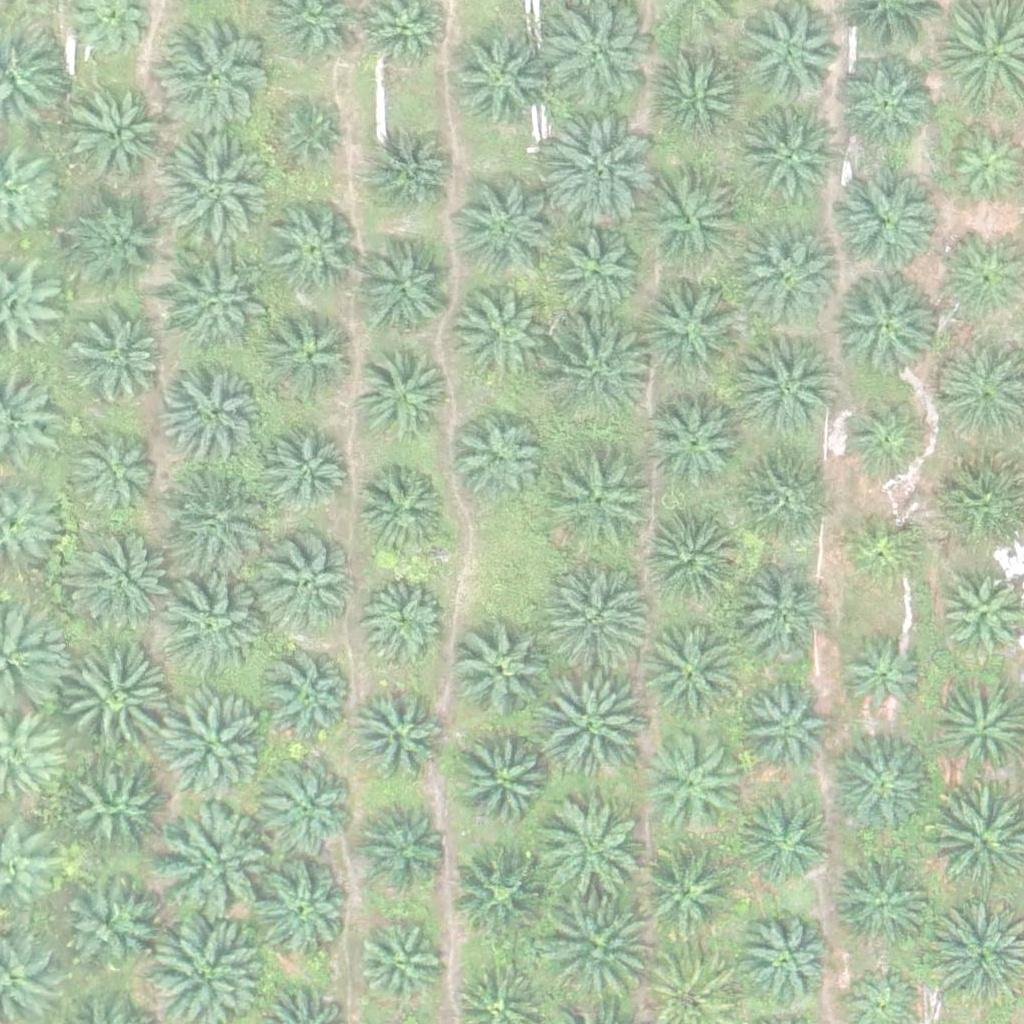Kelapa_Sawit: (62, 521, 175, 635), (154, 140, 267, 254), (156, 569, 269, 683), (540, 315, 653, 429), (544, 451, 657, 565), (540, 891, 653, 1005), (154, 23, 267, 136), (159, 463, 272, 576), (539, 118, 652, 231), (537, 563, 650, 676), (637, 164, 750, 277), (534, 799, 647, 912), (540, 670, 653, 783), (161, 803, 274, 916), (152, 689, 265, 802), (56, 648, 168, 761), (545, 5, 657, 118), (637, 274, 749, 387), (735, 217, 847, 330), (731, 332, 843, 445), (49, 871, 161, 984), (65, 81, 165, 182), (163, 260, 263, 361), (165, 369, 265, 470), (263, 304, 363, 405), (352, 349, 452, 450), (452, 620, 552, 721), (447, 413, 547, 514), (450, 288, 550, 389), (458, 180, 558, 281), (452, 30, 552, 131), (543, 227, 643, 328), (648, 508, 748, 609), (648, 391, 748, 492), (646, 46, 746, 147), (737, 111, 837, 212), (732, 455, 832, 556), (737, 564, 837, 665), (835, 275, 935, 376), (830, 739, 930, 840), (832, 852, 932, 953), (734, 911, 834, 1012), (640, 729, 740, 830), (637, 839, 737, 940), (252, 857, 352, 958), (70, 763, 170, 864), (62, 420, 162, 520), (69, 307, 169, 407), (68, 199, 168, 299), (263, 531, 363, 631), (262, 199, 362, 299), (363, 126, 463, 226), (356, 242, 456, 342), (356, 463, 456, 563), (255, 652, 355, 752), (644, 622, 744, 722), (748, 4, 848, 104), (835, 52, 935, 152), (837, 173, 937, 273), (454, 730, 554, 830), (454, 844, 554, 944), (357, 795, 457, 895), (349, 686, 449, 786), (258, 759, 358, 859), (359, 573, 447, 661), (841, 503, 929, 591), (841, 390, 929, 478), (740, 797, 828, 885), (739, 688, 827, 776), (355, 925, 443, 1013), (259, 429, 346, 517), (836, 635, 923, 723), (271, 102, 346, 178)
